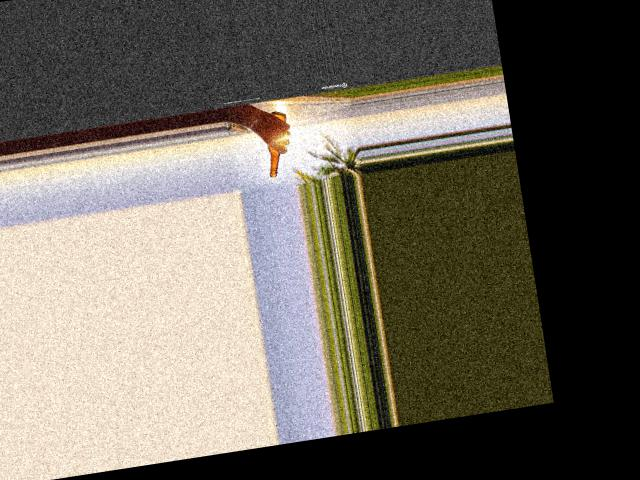beer: (259, 109, 294, 177)
